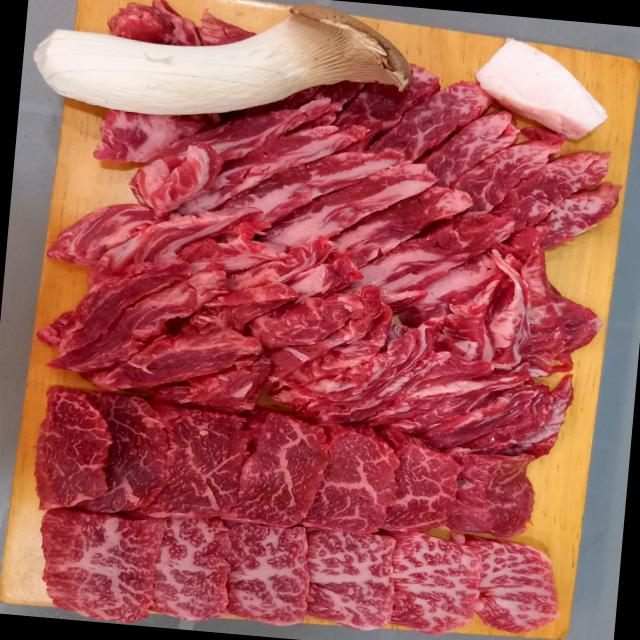beef: (184, 125, 556, 302), (108, 297, 578, 429), (62, 511, 526, 638), (80, 413, 524, 542)
